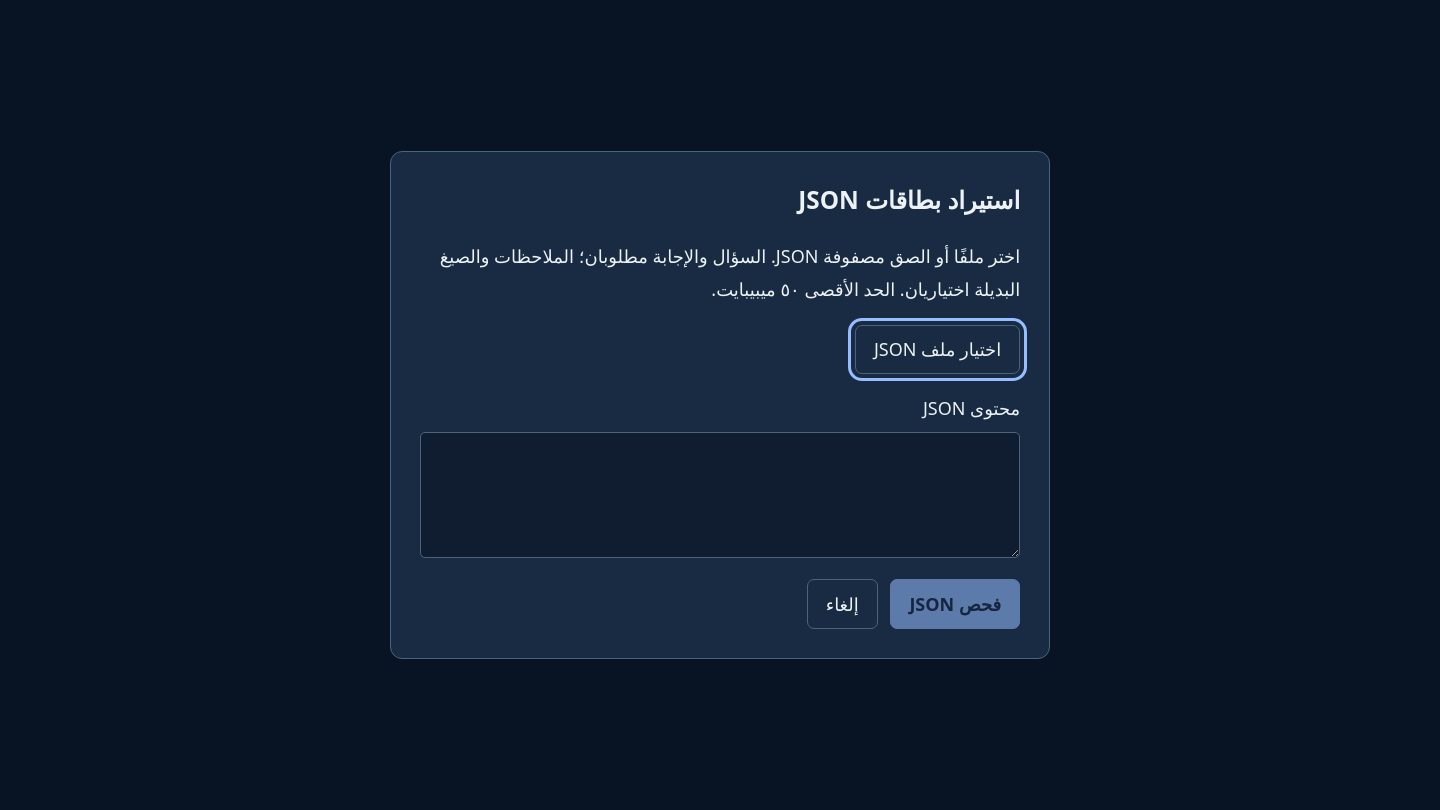
Scenario: resets selection to the fresh preview after a conflict
The image size is (1440, 810).
Click the text box labelled "محتوى JSON": (720, 495) [420,432,1020,558]
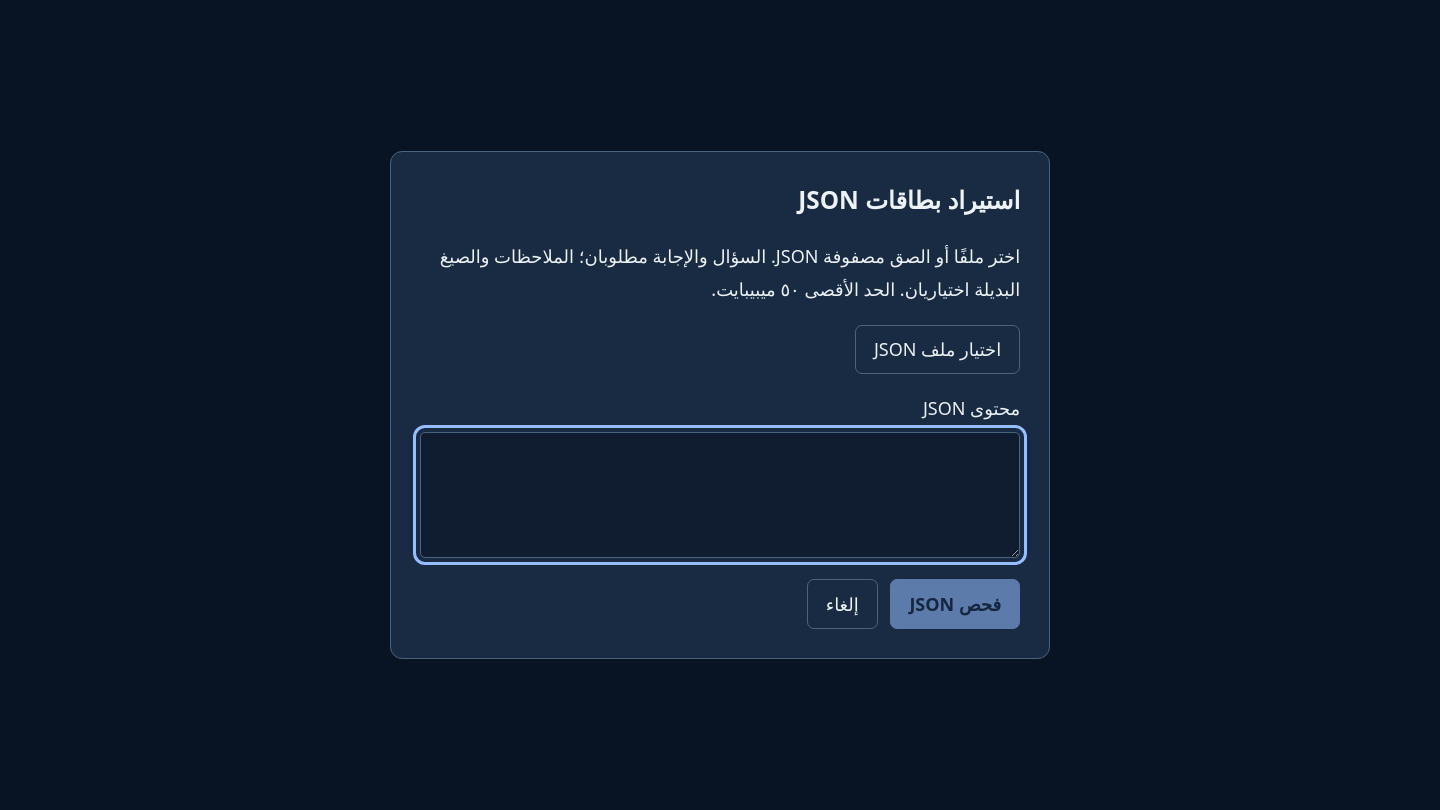
Type keys "[]"
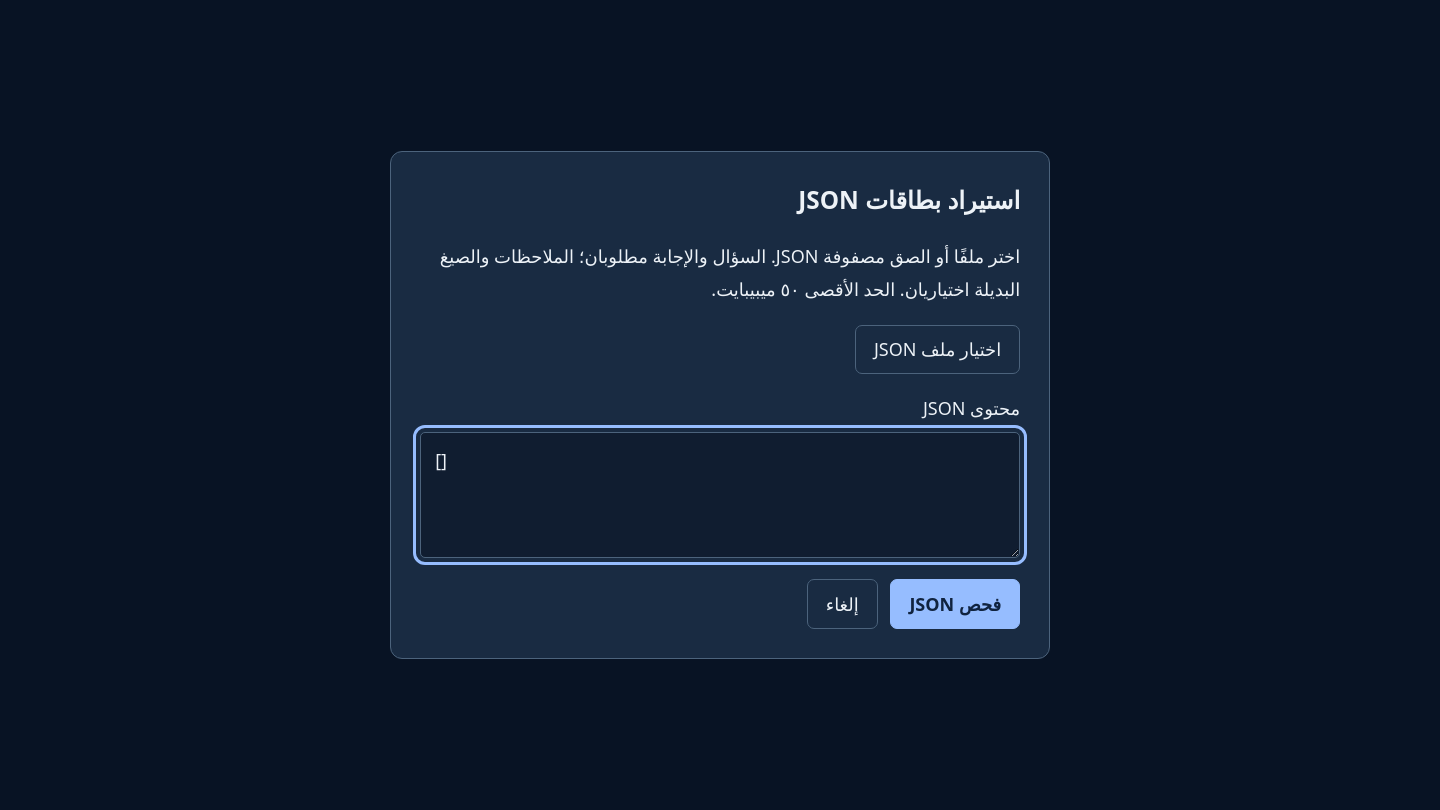
Click the button "فحص JSON": (955, 604) [890,579,1020,629]
(page scrolled)
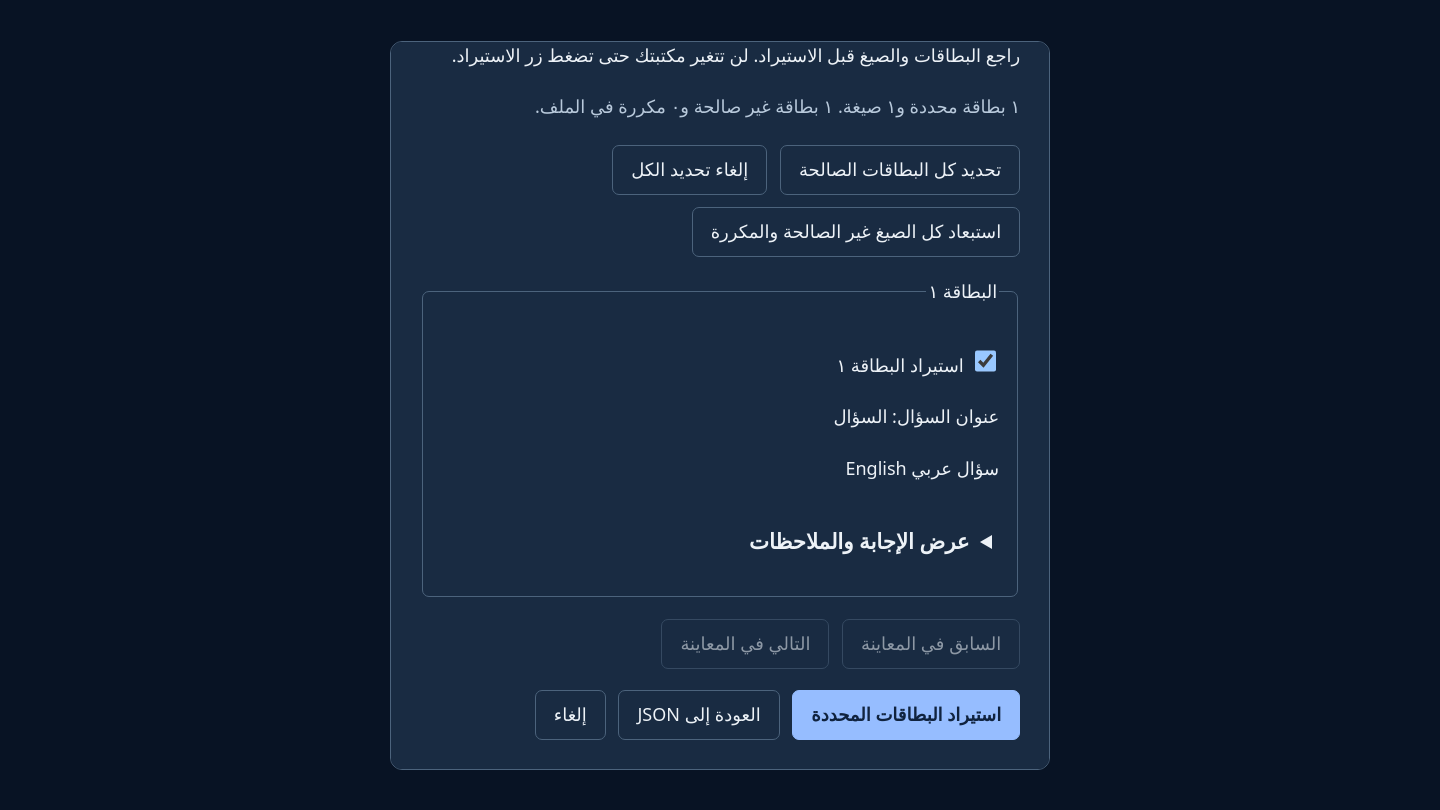
Click the button "استيراد البطاقات المحددة": (906, 715) [792,690,1020,740]
(page scrolled)
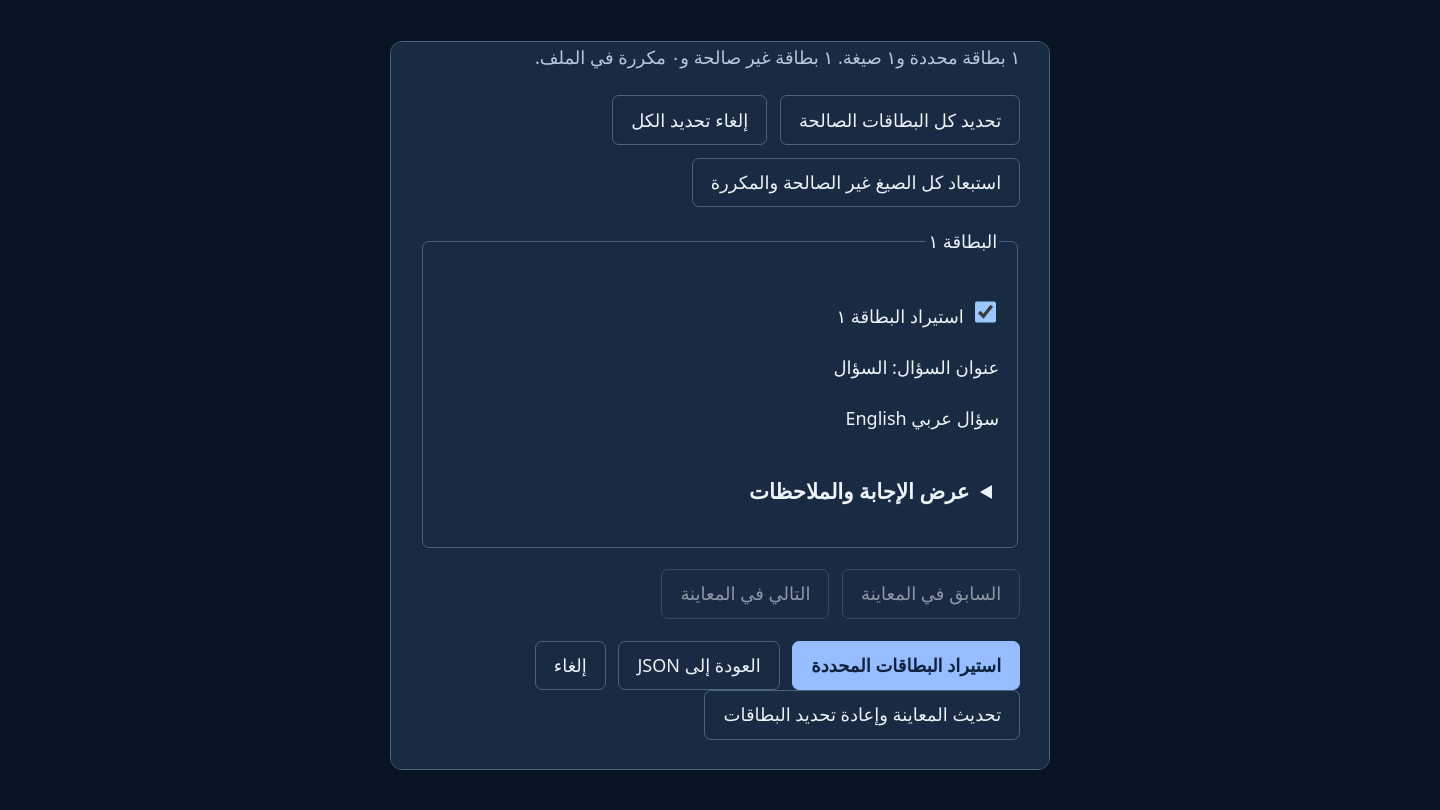
Click the button "تحديث المعاينة وإعادة تحديد البطاقات": (862, 715) [704,690,1020,740]
(page scrolled)
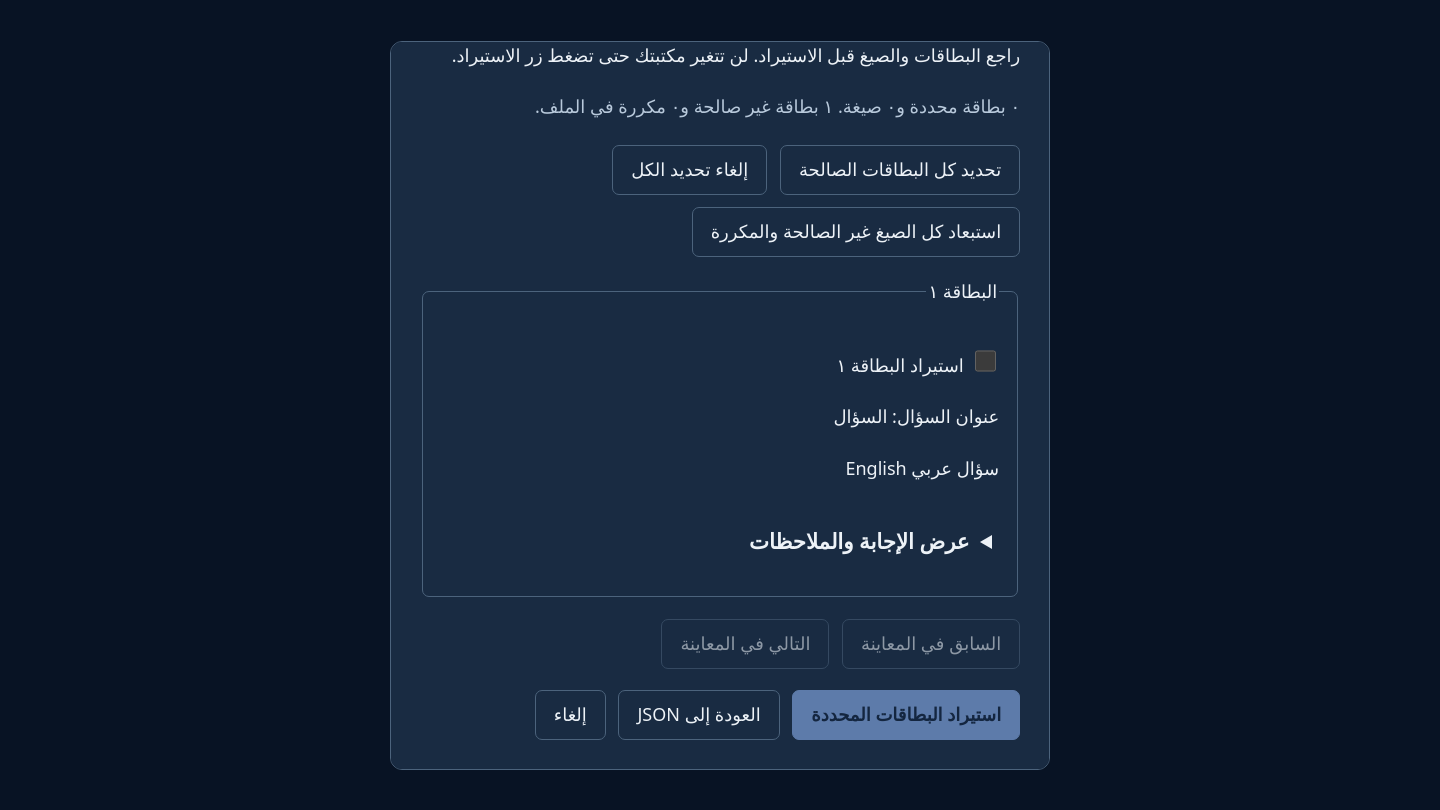
Now the checkbox labelled "استيراد البطاقة ١" is not checked, box [975,350,996,372]
Now the button "استيراد البطاقات المحددة" is disabled, box [792,690,1020,740]
